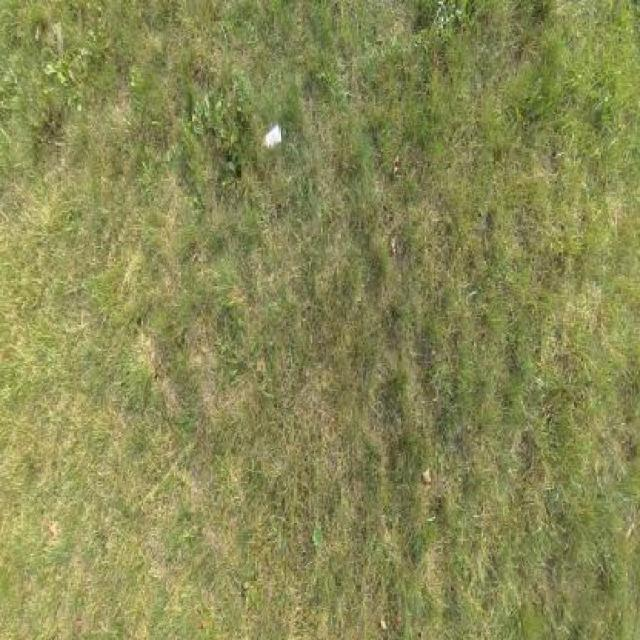Garbage: (262, 122, 281, 149)
